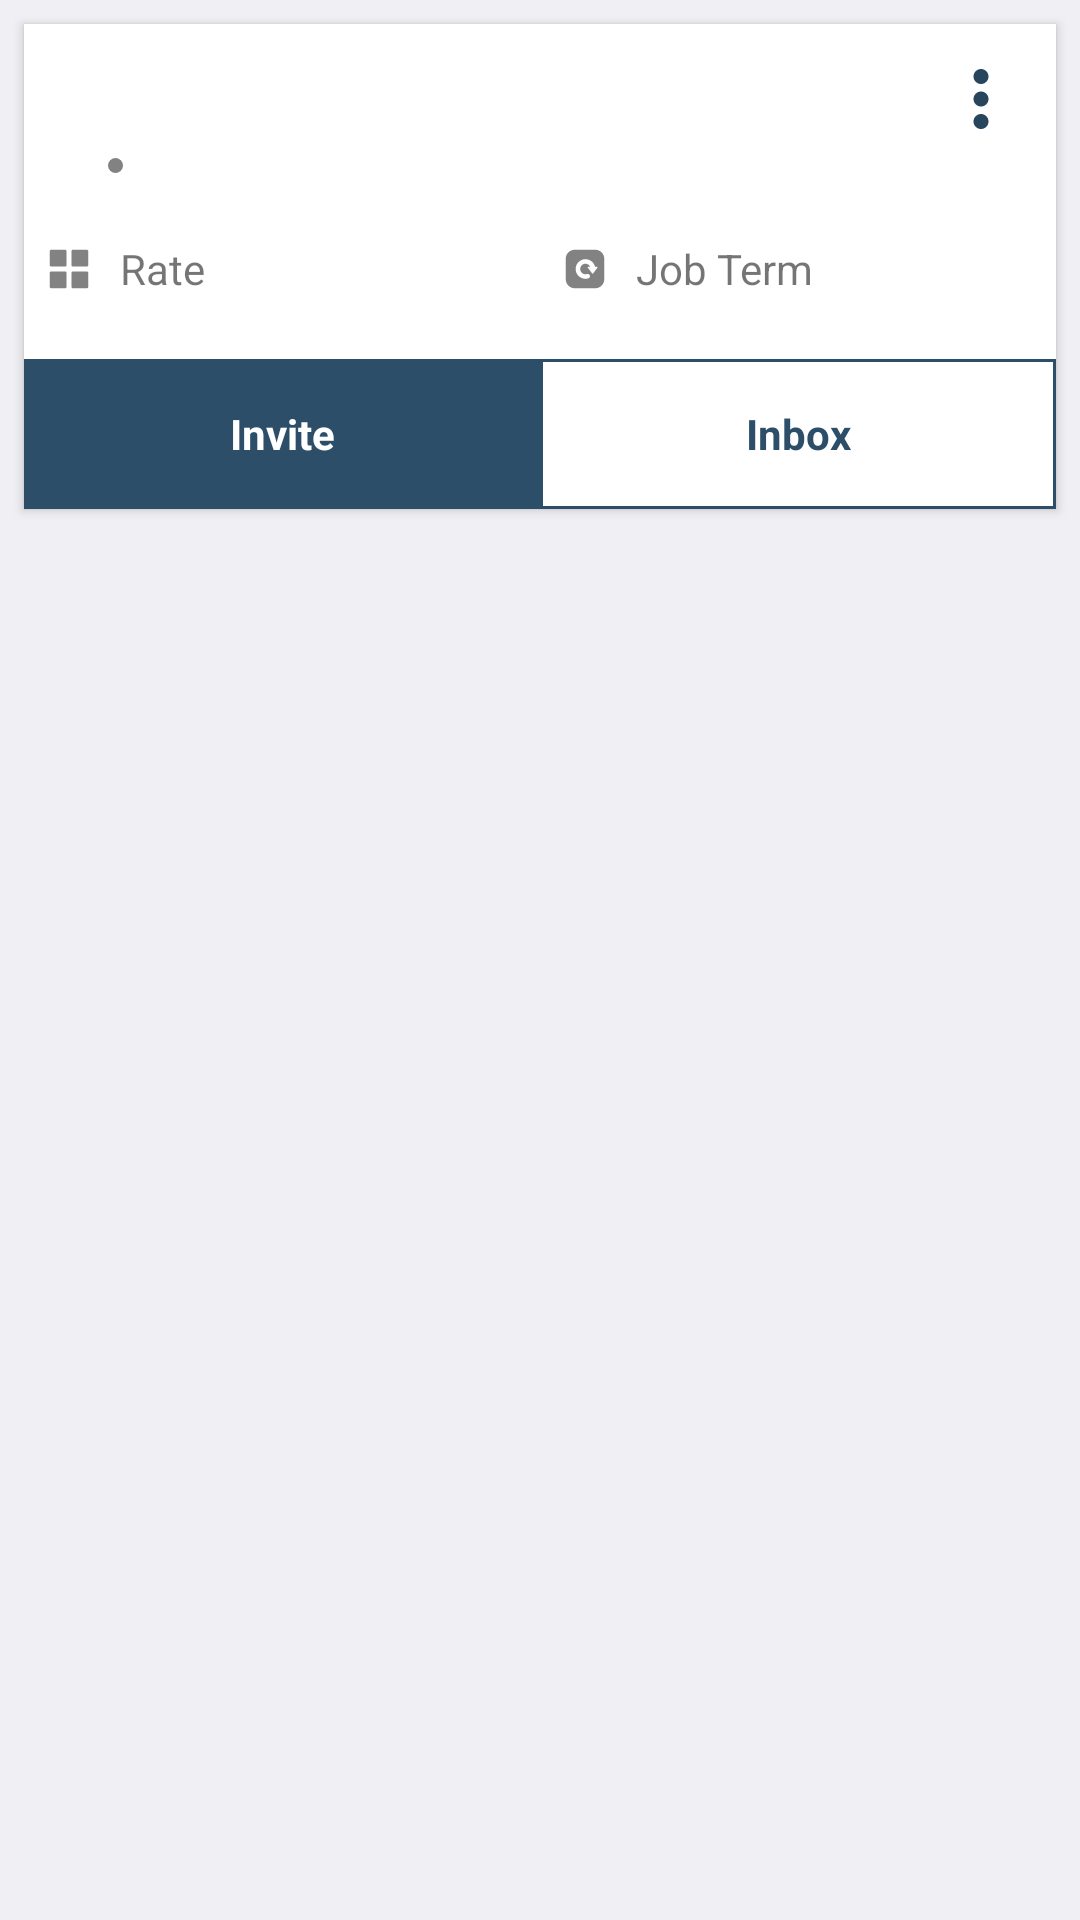

Named icons in this screenshot (1080px x 1920px) and their bounding boxes, (x1, y1, x2, y2):
category: (49, 249, 89, 289)
options: (973, 69, 989, 129)
recurring iocn: (565, 249, 605, 289)
